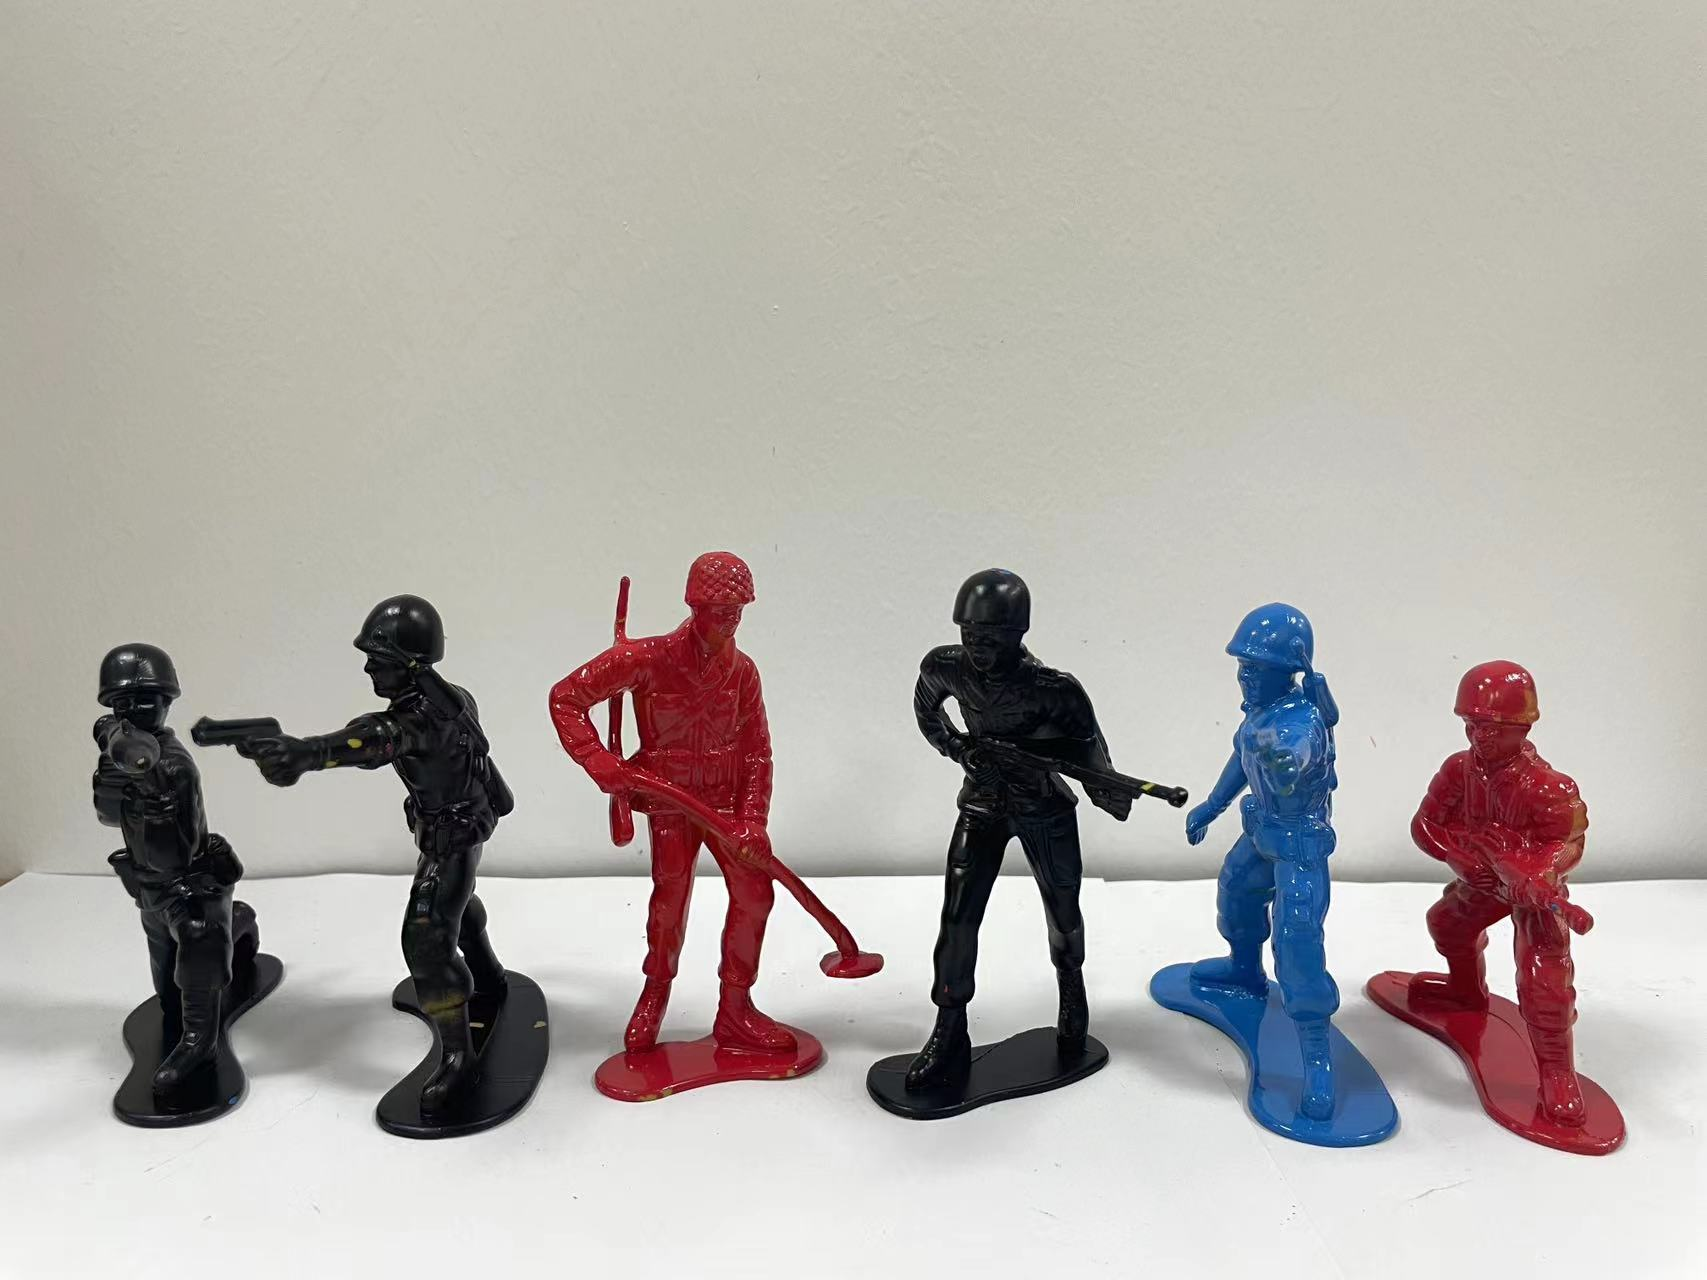black: (267, 534, 552, 1155), (868, 555, 1125, 1140), (55, 600, 306, 1158)
blue: (1137, 582, 1392, 1170)
red: (535, 519, 862, 1143), (1376, 631, 1671, 1218)
